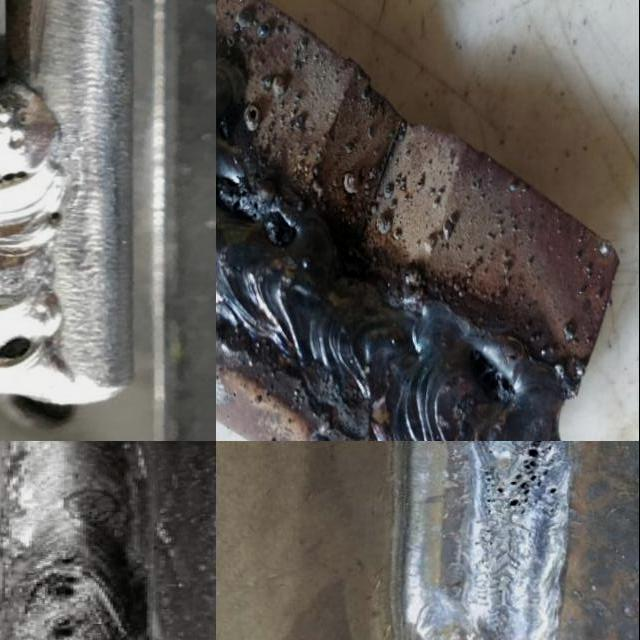defect: (217, 173, 295, 248), (490, 441, 562, 514), (24, 549, 95, 603), (466, 340, 519, 408), (0, 333, 41, 374), (36, 613, 96, 640), (0, 164, 30, 192), (46, 207, 65, 222)
